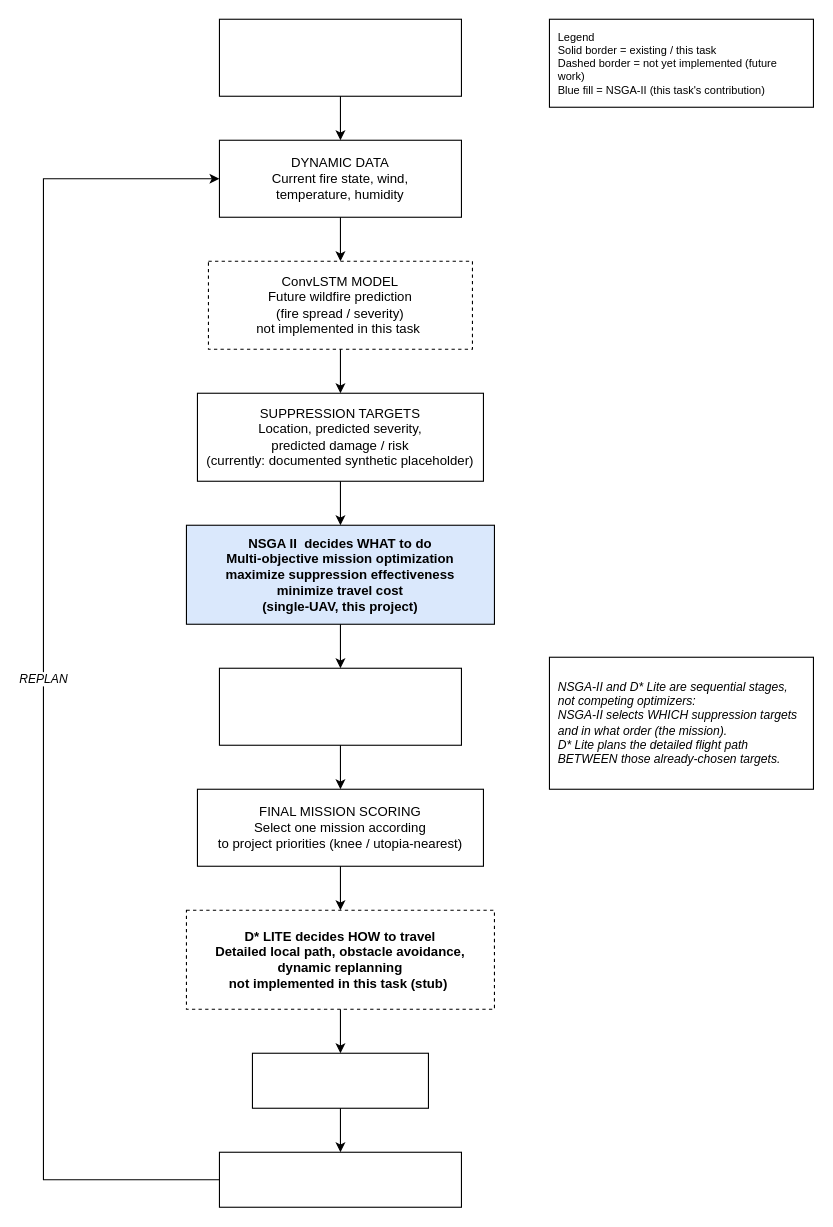
Image size: 833x1227. Some labels were removed from this diagram. The shapes that lost their labels are listed below. From the top down, each one's centre as x and y in pixels, then its label:
At (339,57): "STATIC DATA Terrain / elevation Vegetation / fuel Slope".
At (339,706): "PARETO FRONT Multiple trade-off mission candidates".
At (339,1080): "UAV EXECUTION".
At (339,1179): "NEW FIRE PREDICTION".
